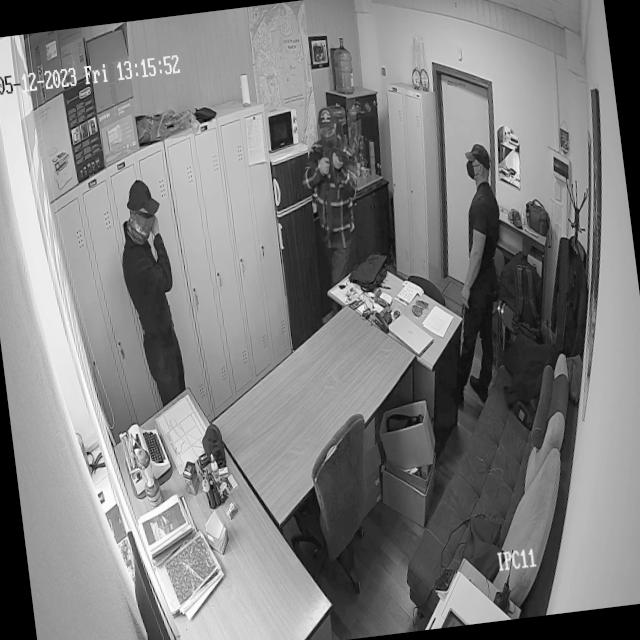gun: (314, 143, 358, 185)
person: (434, 142, 522, 411), (113, 173, 192, 410)
person with a gun: (292, 103, 370, 284)
